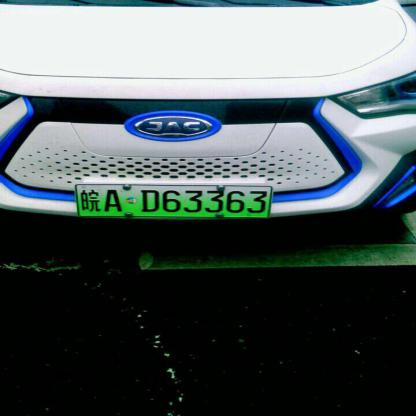lp: (76, 184, 272, 217)
